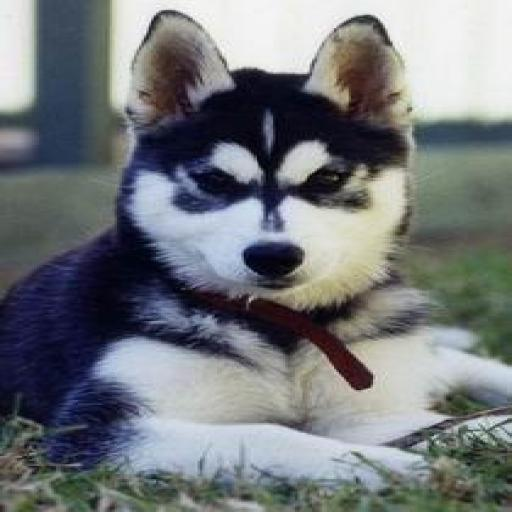dog_face: (130, 6, 402, 294)
